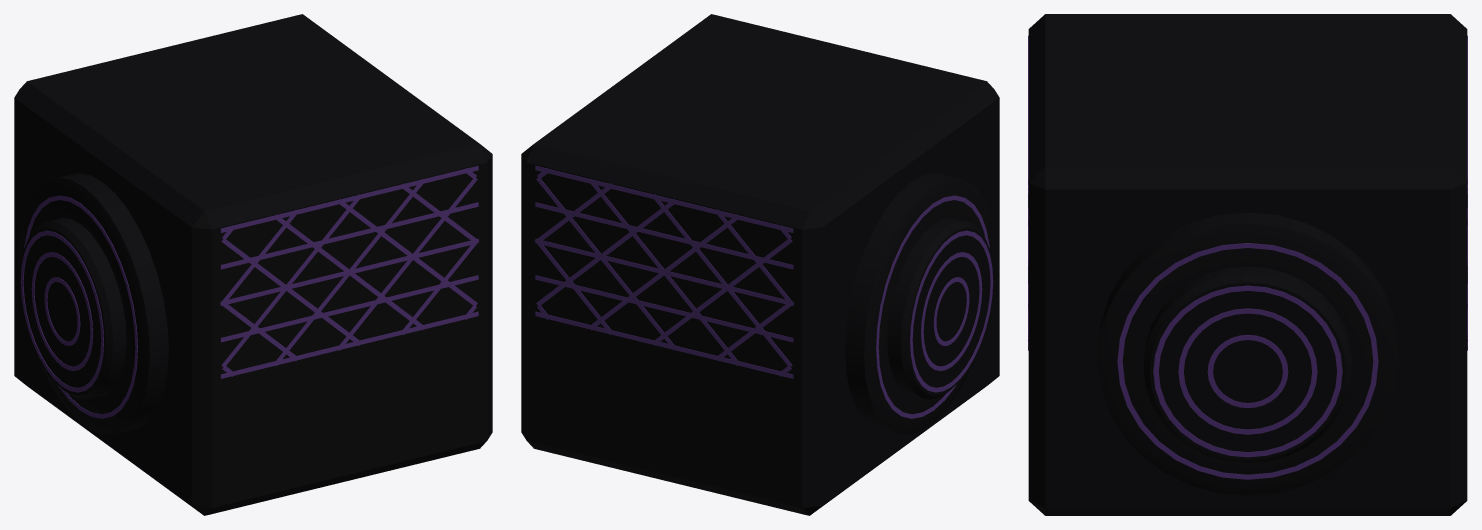
File: z5_field.obj
The picture shows the model from 3 angles, left to right: view 1: azimuth 30°, elevation 25°; view 2: azimuth 150°, elevation 25°; view 3: azimuth 270°, elevation 25°; orthographic projection. The views are drawn at different scales.
Visible parts, largest first — view 1: z5_field; view 2: z5_field; view 3: z5_field.
Boxes of the visible parts, x1=… form: z5_field: x1=14, y1=14, x2=492, y2=515; z5_field: x1=521, y1=14, x2=999, y2=515; z5_field: x1=1028, y1=14, x2=1467, y2=515.
Bounding box in the file's own units: 2.42 × 1.84 × 2.11.
